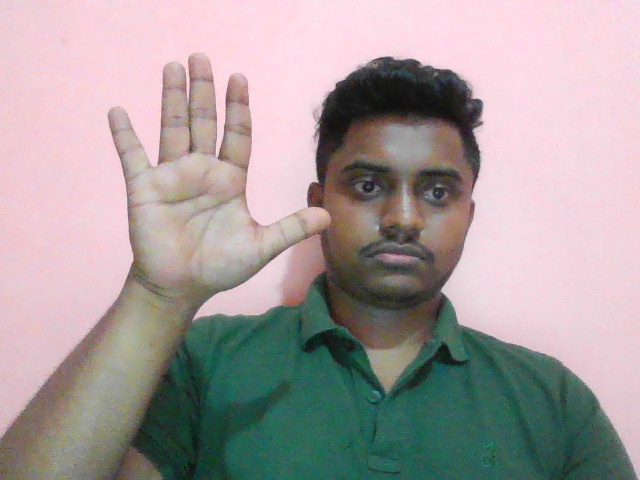Hello: (102, 49, 335, 312)
